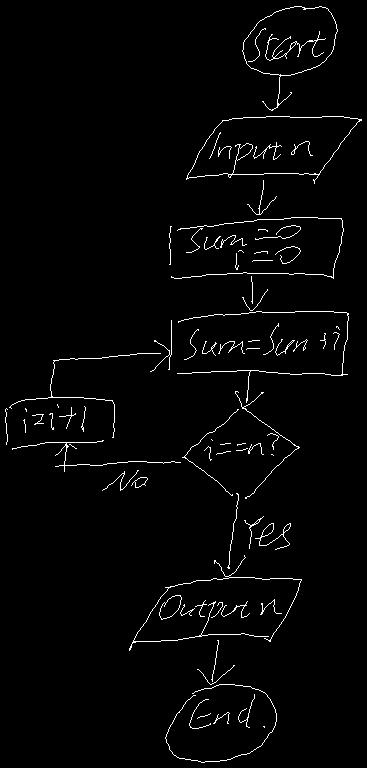arrow: (50, 340, 169, 397), (55, 443, 180, 471), (214, 493, 245, 576), (197, 640, 234, 684), (235, 370, 263, 408), (262, 74, 291, 110), (247, 180, 276, 214), (242, 276, 267, 310)
data: (129, 577, 301, 650), (186, 116, 361, 183)
decision: (182, 408, 299, 498)
process: (168, 311, 348, 375), (169, 217, 343, 278), (5, 397, 114, 449)
terminator: (165, 684, 276, 762), (242, 6, 337, 75)
text: (184, 323, 339, 359), (186, 225, 300, 269), (159, 595, 281, 635), (209, 132, 312, 177), (189, 694, 264, 728), (248, 28, 325, 61), (204, 433, 278, 460), (23, 404, 85, 432), (244, 516, 290, 549), (102, 470, 147, 490)
